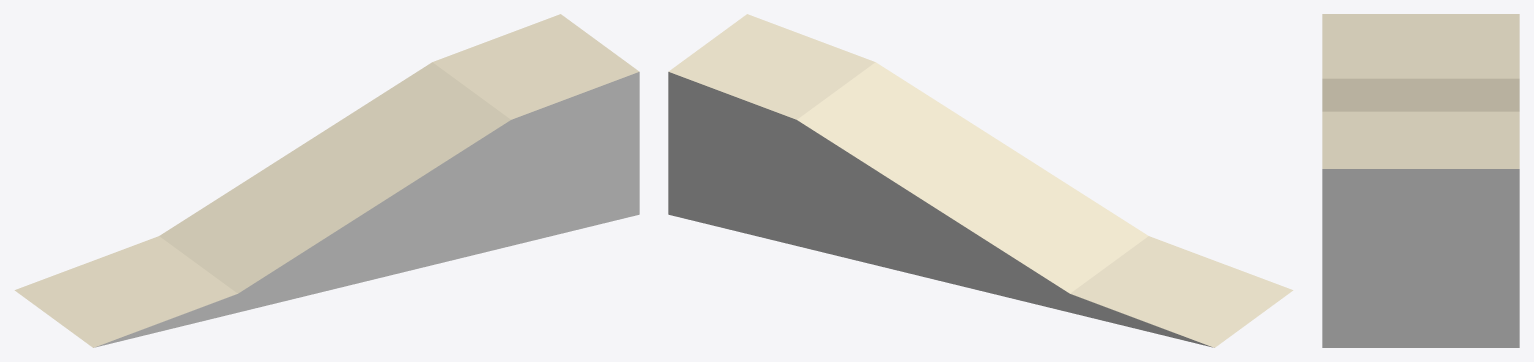
The model's file is Path_Terrain_Incline_Gentle_Center_1x4.glb.
3 renders of one model, left to right at view 1: azimuth 30°, elevation 25°; view 2: azimuth 150°, elevation 25°; view 3: azimuth 270°, elevation 25°, orthographic. The views are drawn at different scales.
Parts seen in each view (by area): view 1: Path_Terrain_Incline_Gentle_Center_1x4; view 2: Path_Terrain_Incline_Gentle_Center_1x4; view 3: Path_Terrain_Incline_Gentle_Center_1x4.
Boxes of the visible parts, x1,y1,x2,y2 form: Path_Terrain_Incline_Gentle_Center_1x4: (14, 14, 639, 347); Path_Terrain_Incline_Gentle_Center_1x4: (668, 14, 1293, 347); Path_Terrain_Incline_Gentle_Center_1x4: (1322, 14, 1519, 347).
Size of the model in its own units: 400 by 100 by 100.
